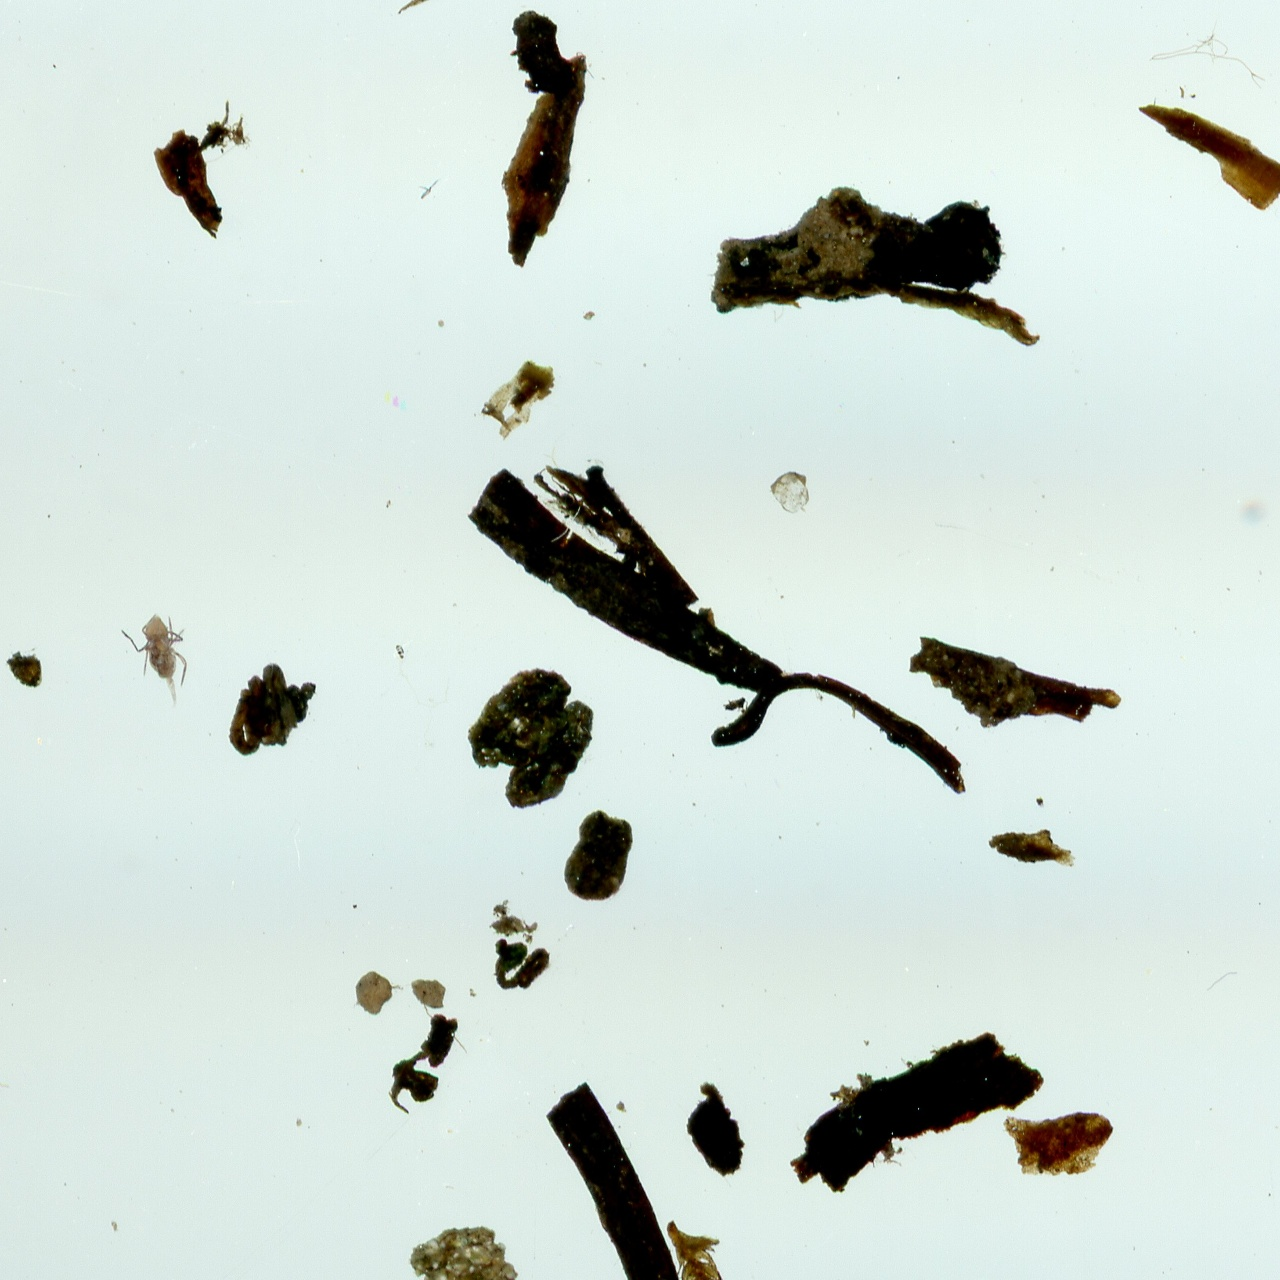arthropod: (116, 612, 193, 711)
